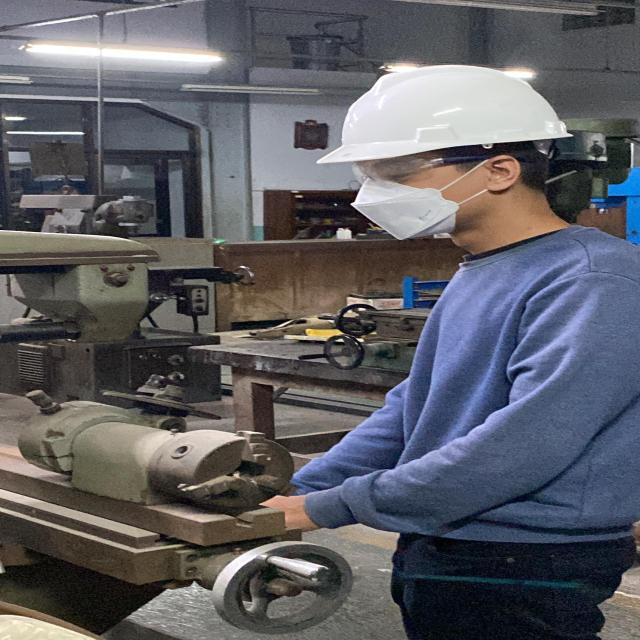glasses: (358, 148, 509, 189)
